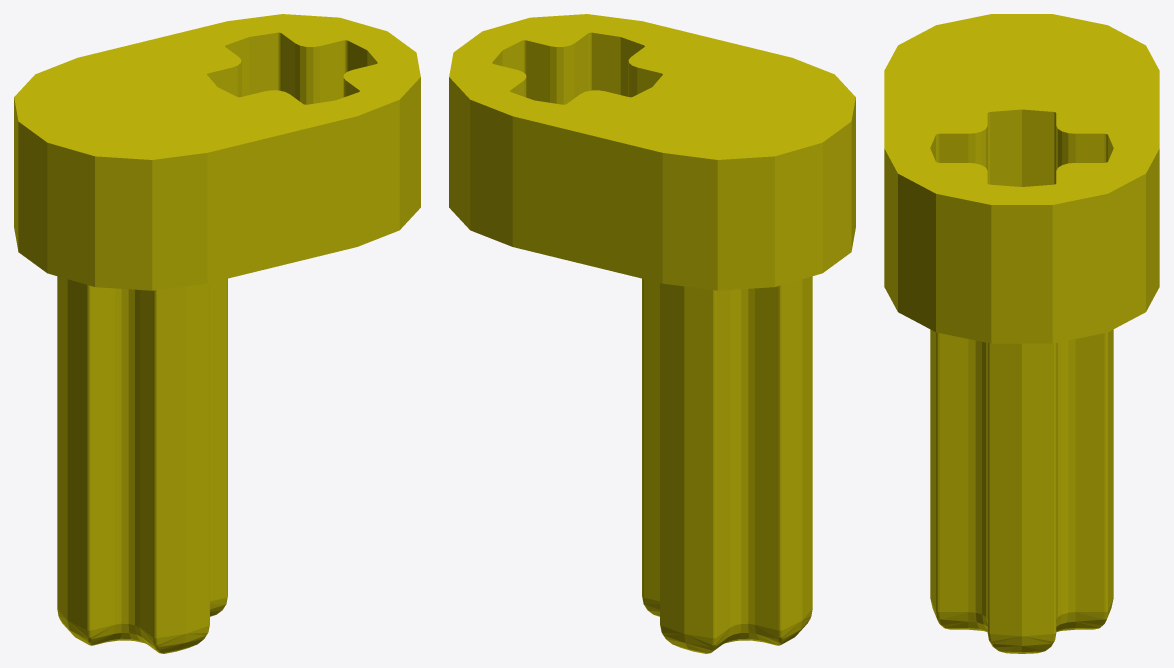
File: Ye_4119474_JCA.fbx
3 renders of one model, left to right at view 1: azimuth 30°, elevation 25°; view 2: azimuth 150°, elevation 25°; view 3: azimuth 270°, elevation 25°, orthographic. The views are drawn at different scales.
Visible parts, largest first — view 1: Ye_4119474_JCA; view 2: Ye_4119474_JCA; view 3: Ye_4119474_JCA.
Boxes of the visible parts, x1,y1,x2,y2 form: Ye_4119474_JCA: (14,14,420,653); Ye_4119474_JCA: (449,14,855,653); Ye_4119474_JCA: (884,14,1159,653).
Size of the model in its own units: 1.18 by 1.6 by 0.72.
